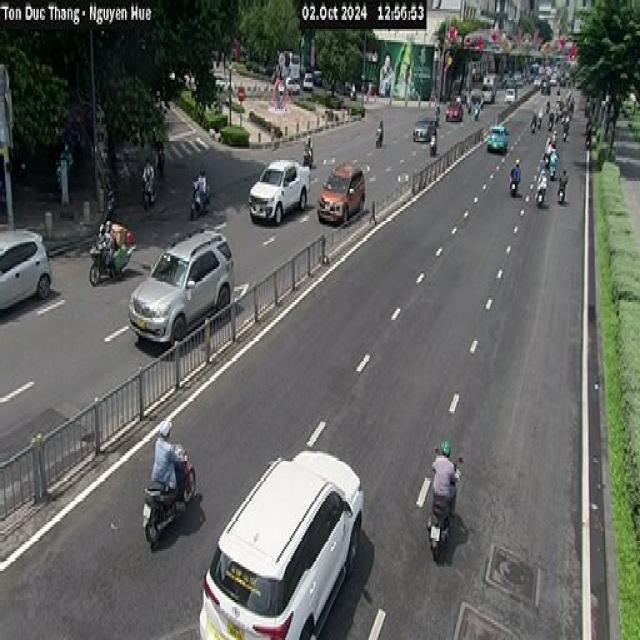car: (198, 449, 364, 638), (128, 226, 234, 346), (0, 227, 51, 311), (248, 158, 310, 224), (316, 160, 365, 224), (441, 92, 466, 130), (486, 122, 509, 154), (412, 116, 437, 142)
motorcycle: (142, 444, 196, 546), (420, 484, 463, 562), (89, 238, 136, 284), (137, 181, 166, 212), (188, 186, 212, 216), (508, 171, 526, 198), (368, 134, 391, 154), (534, 186, 550, 212), (545, 165, 561, 188), (304, 147, 320, 169), (554, 184, 568, 209), (424, 138, 439, 160), (545, 142, 558, 166), (530, 115, 540, 142), (559, 127, 572, 147), (545, 153, 555, 176), (583, 138, 595, 150)
person: (150, 416, 186, 500), (430, 438, 461, 533), (140, 155, 155, 209), (102, 212, 121, 254), (192, 167, 208, 213), (504, 145, 522, 184), (547, 138, 569, 168), (94, 212, 108, 254), (422, 123, 442, 145), (532, 168, 550, 188), (378, 104, 388, 139), (556, 165, 569, 190), (304, 126, 314, 158), (582, 125, 590, 160), (534, 106, 542, 140)
truck: (480, 71, 500, 106), (504, 78, 520, 110)
